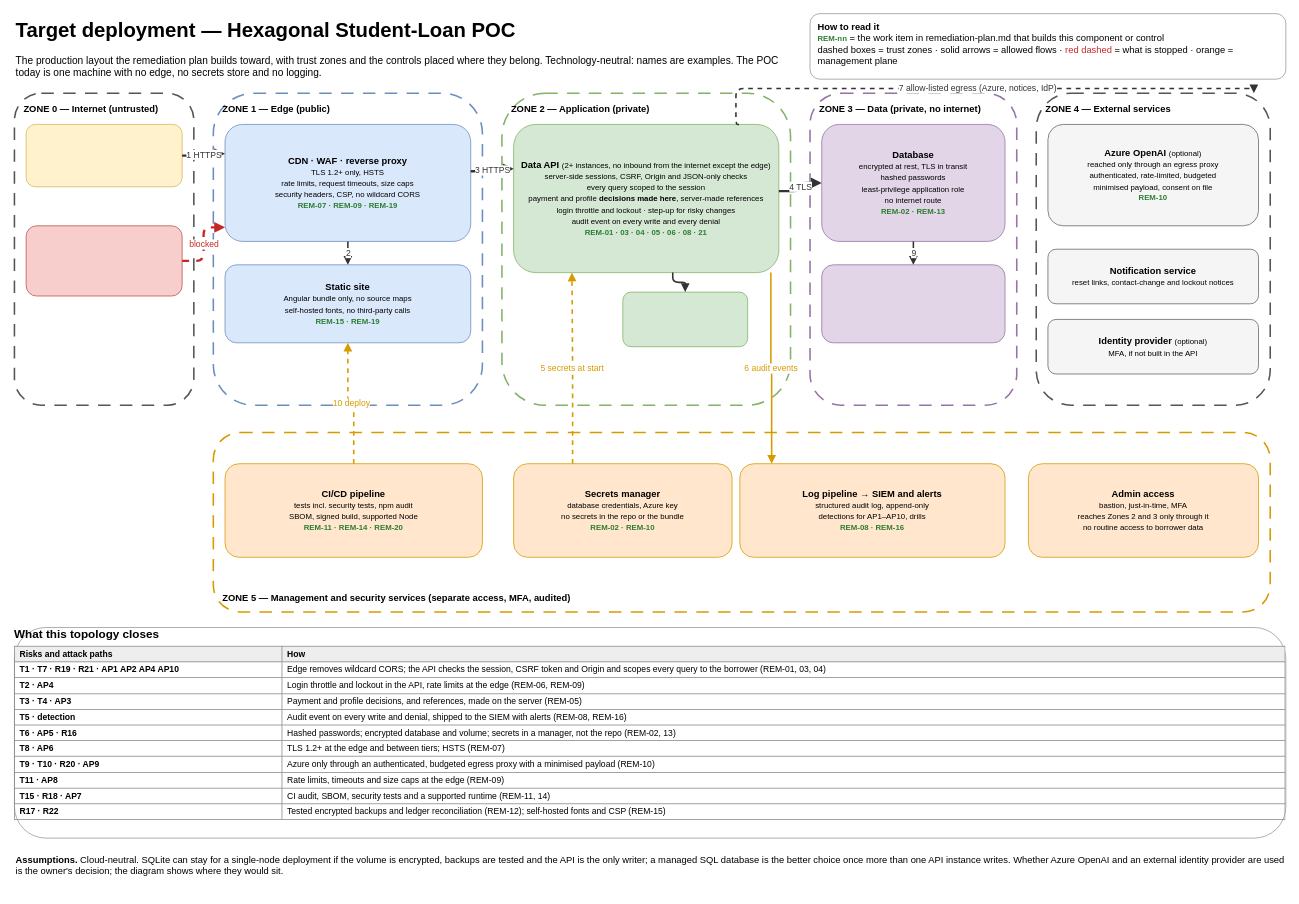
Image size: 1299x904. Some labels were removed from this diagram. The centre of each missing label's shape, as x and y in pixels:
"Attacker anonymous · malicious borrower · hostile website" belongs at point 103,260.
"Backups encrypted, separate account restore tested, ledger reconciled REM-12" belongs at point 913,303.
"Borrower browser on their own device" belongs at point 103,155.
"Keyword language model in-process, no LLM no outbound calls" belongs at point 685,319.
